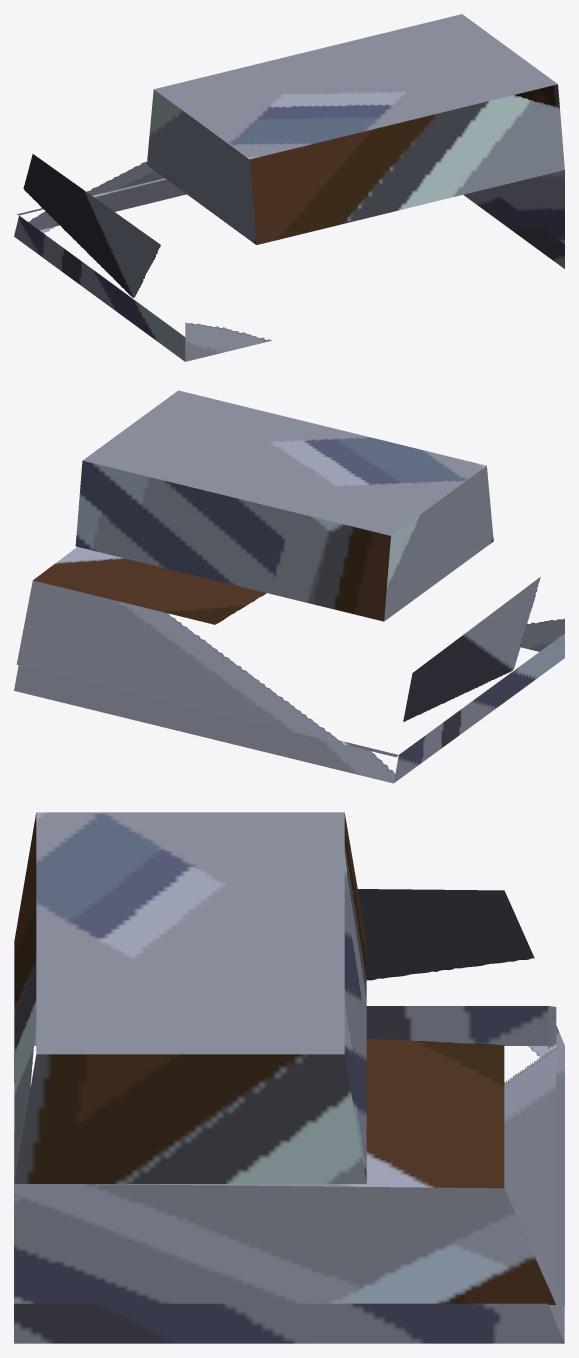
The model's file is ss8_carport_fan_lh.obj.
3 renders of one model, top to bottom at view 1: azimuth 30°, elevation 25°; view 2: azimuth 150°, elevation 25°; view 3: azimuth 270°, elevation 25°, orthographic. The views are drawn at different scales.
Visible parts, largest first — view 1: cube_selection_selection_selection_selection_selection_selection; view 2: cube_selection_selection_selection_selection_selection_selection; view 3: cube_selection_selection_selection_selection_selection_selection.
Boxes of the visible parts, <box> form: cube_selection_selection_selection_selection_selection_selection: <box>14,14,564,361</box>; cube_selection_selection_selection_selection_selection_selection: <box>14,390,564,783</box>; cube_selection_selection_selection_selection_selection_selection: <box>14,812,564,1343</box>.
Bounding box in the file's own units: 2 × 0.9062 × 1.56.
